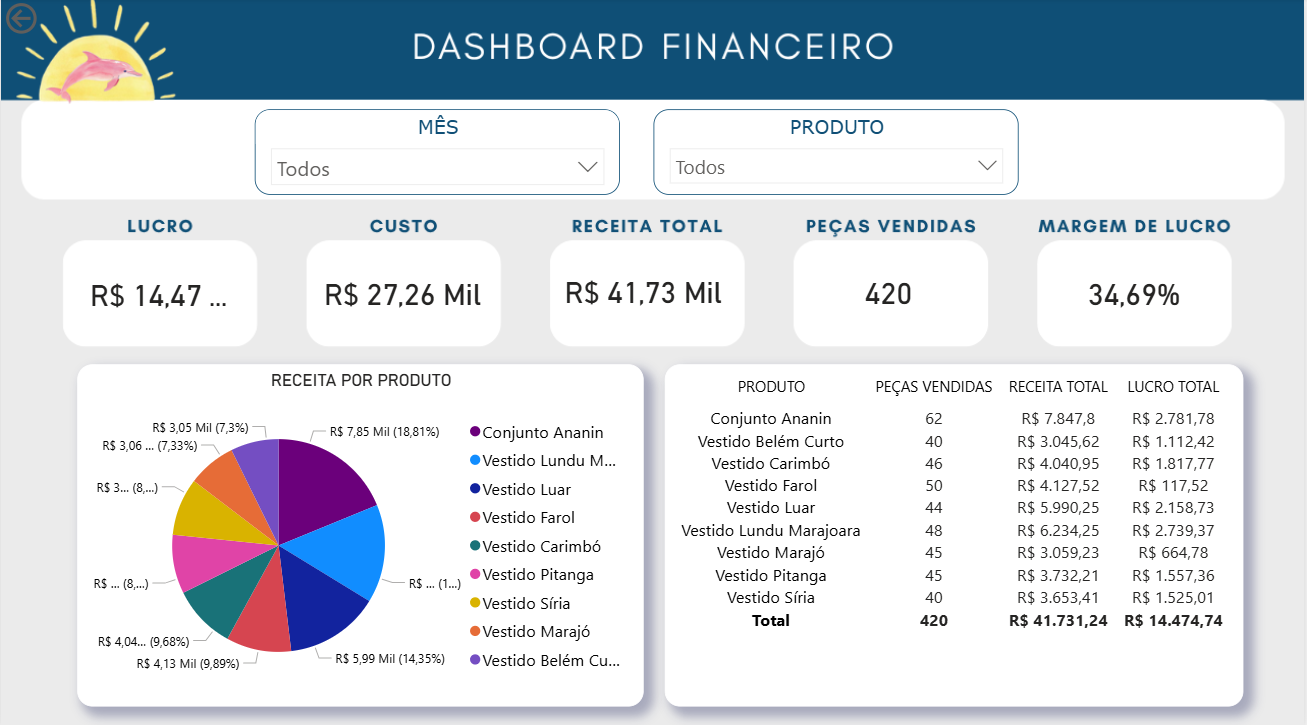

Layout of this report page (visuals, bound fields, positions):
{"tool":"powerbi","page":{"name":"Página 1","canvas":[1280,720],"ordinal":0},"visuals":[{"type":"actionButton","box":[0,0,100,40],"z":0},{"type":"slicer","title":"MÊS","fields":{"Values":["Base_dados.Data.Variation.Hierarquia de datas.Mês"]},"box":[248.8,108.8,358.8,83.8],"z":1000},{"type":"slicer","title":"PRODUTO","fields":{"Values":["Base_dados.Produto"]},"box":[640,108.8,358.8,83.8],"z":2000},{"type":"card","fields":{"Values":["Base_dados.RECEITA_TOTAL"]},"box":[547.2,247.9,166.9,79.8],"z":3000},{"type":"card","fields":{"Values":["Base_dados.CUSTO_TOTAL"]},"box":[311.7,244.2,165.6,90.8],"z":4000},{"type":"card","fields":{"Values":["Base_dados.LUCRO_TOTAL"]},"box":[74.8,251.5,159.5,77.3],"z":5000},{"type":"card","fields":{"Values":["Base_dados.PEÇAS_VENDIDA"]},"box":[791.4,251.5,159.5,74.8],"z":6000},{"type":"card","fields":{"Values":["Base_dados.MARGEM"]},"box":[1033.1,244.2,158.3,90.8],"z":7000},{"type":"pieChart","title":"RECEITA POR PRODUTO","fields":{"Category":["Base_dados.Produto"],"Y":["Base_dados.RECEITA_TOTAL"]},"box":[74.8,359.5,555.8,336.2],"z":8000},{"type":"pivotTable","title":"DSESFSE","fields":{"Rows":["Base_dados.Produto"],"Values":["Base_dados.PEÇAS_VENDIDA","Base_dados.RECEITA_TOTAL","Base_dados.LUCRO_TOTAL"]},"box":[651.5,359.5,568.1,336.2],"z":9000}]}

Visuals, with their boxes in screenshot pixels (x1, y1, x2, y2), scaled from the page's 1280x720 canvas onto the 1307x725 screenshot:
actionButton: (0,0,102,40)
"MÊS" slicer: (254,110,620,194)
"PRODUTO" slicer: (654,110,1020,194)
card - Base_dados.RECEITA_TOTAL: (559,250,729,330)
card - Base_dados.CUSTO_TOTAL: (318,246,487,337)
card - Base_dados.LUCRO_TOTAL: (76,253,239,331)
card - Base_dados.PEÇAS_VENDIDA: (808,253,971,329)
card - Base_dados.MARGEM: (1055,246,1217,337)
"RECEITA POR PRODUTO" pieChart: (76,362,644,701)
"DSESFSE" pivotTable: (665,362,1245,701)
